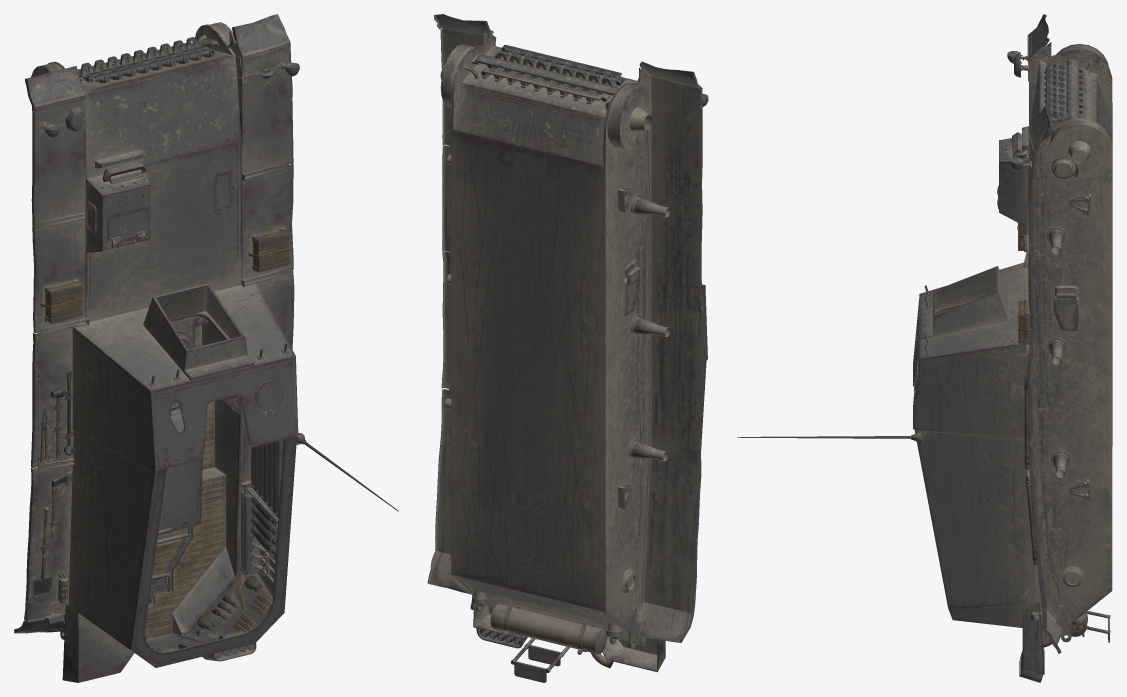
Rendered from Hull.glb.
The picture shows the model from 3 angles, left to right: view 1: azimuth 30°, elevation 25°; view 2: azimuth 150°, elevation 25°; view 3: azimuth 270°, elevation 25°; orthographic projection. The views are drawn at different scales.
Visible parts, largest first — view 1: set_0_group_0; view 2: set_0_group_0; view 3: set_0_group_0.
Part boxes in pixels (left/top/right/bottom): set_0_group_0: left=14, top=14, right=398, bottom=682; set_0_group_0: left=427, top=14, right=708, bottom=682; set_0_group_0: left=737, top=14, right=1112, bottom=682.
Bounding box in the file's own units: 3.16 × 7.25 × 4.29.
Materials: 1 (1 with a texture image).
